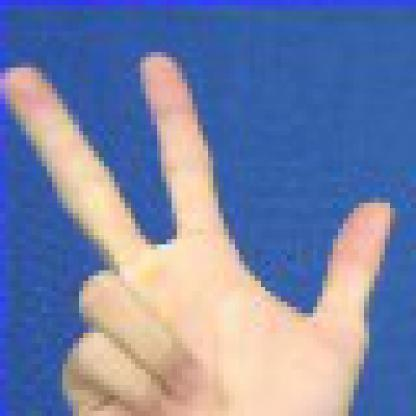eight: (0, 15, 411, 410)
